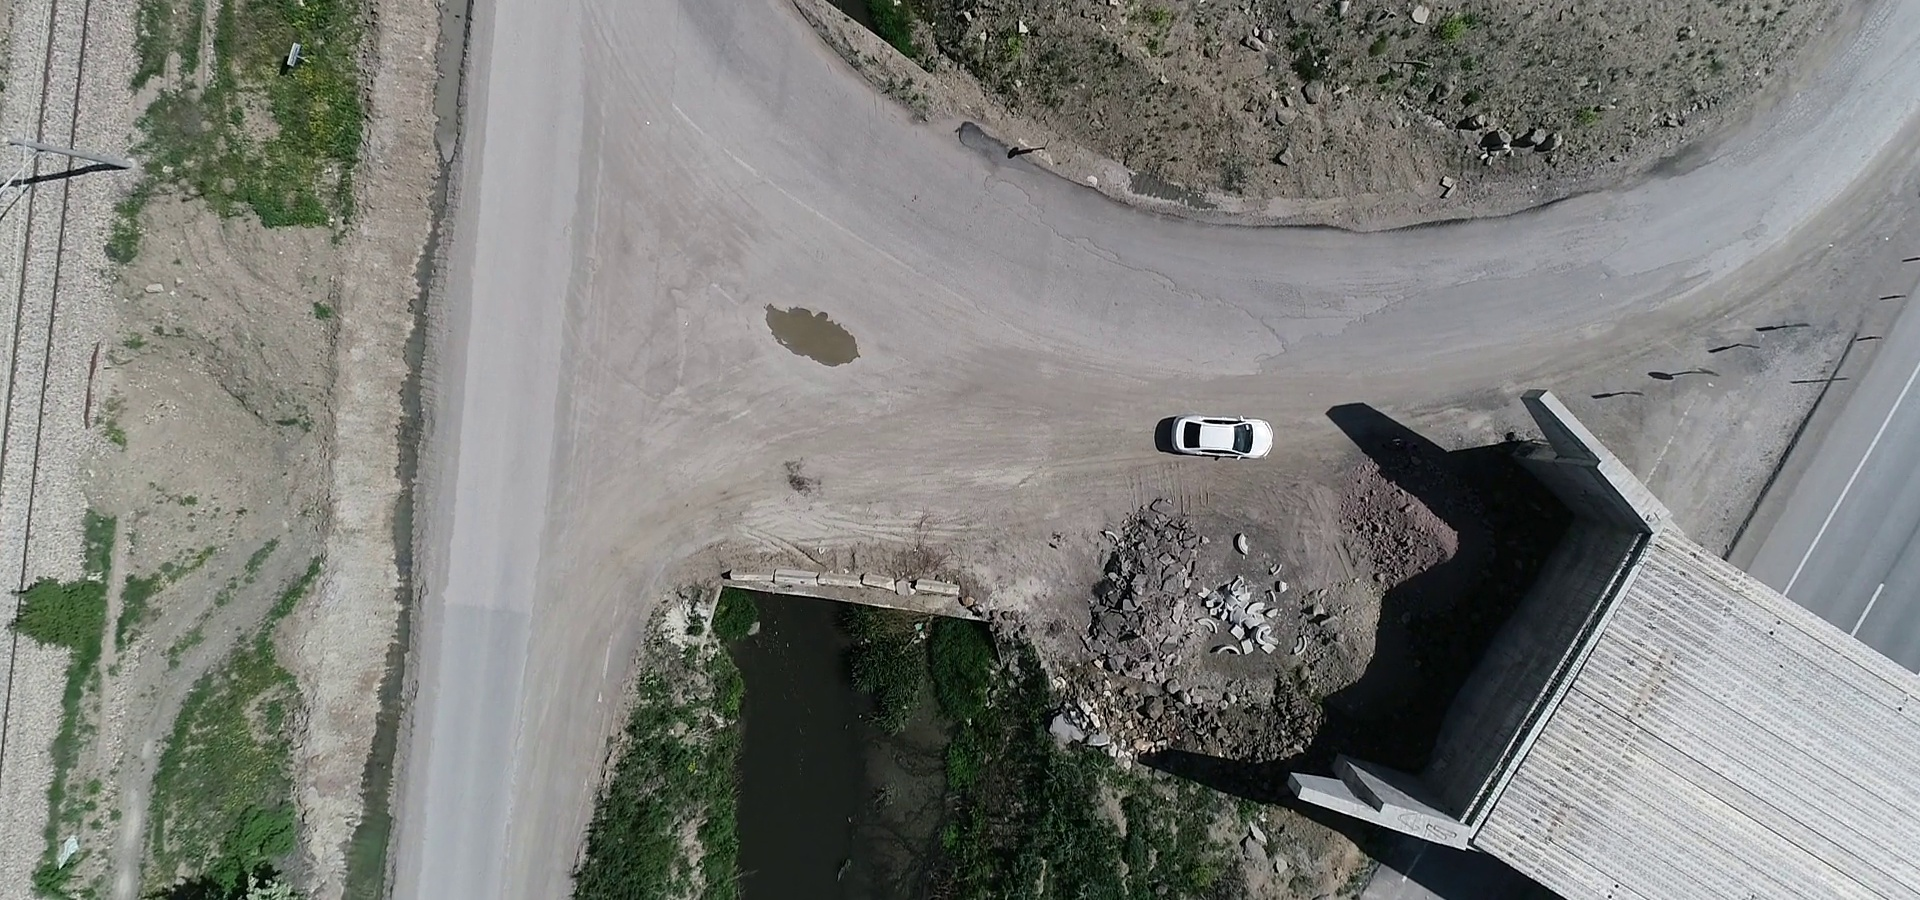arac: (1167, 408, 1280, 469)
